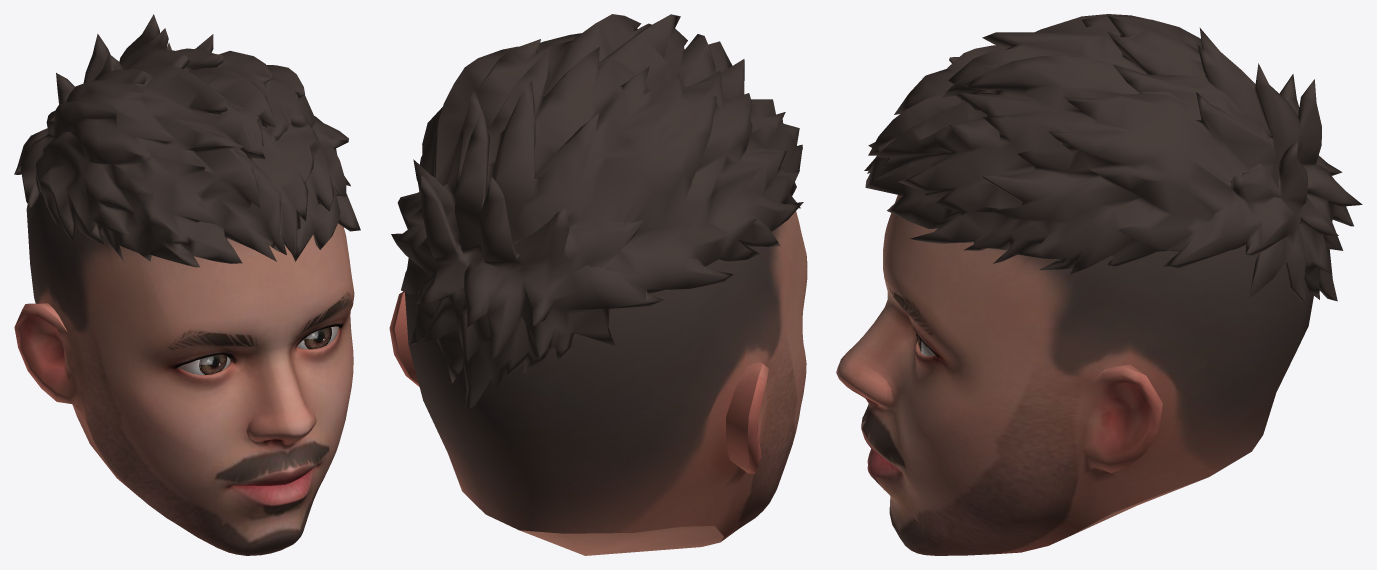
3 renders of one model, left to right at view 1: azimuth 30°, elevation 25°; view 2: azimuth 150°, elevation 25°; view 3: azimuth 270°, elevation 25°, orthographic. The views are drawn at different scales.
Visible parts, largest first — view 1: Wolf3D_Head, Wolf3D_Hair, EyeRight, EyeLeft; view 2: Wolf3D_Hair, Wolf3D_Head; view 3: Wolf3D_Head, Wolf3D_Hair.
Part boxes in pixels (x1,y1,x2,y2): Wolf3D_Head: (14, 192, 354, 555); Wolf3D_Hair: (14, 14, 360, 267); EyeRight: (178, 354, 230, 375); EyeLeft: (297, 326, 338, 349); Wolf3D_Hair: (391, 14, 803, 408); Wolf3D_Head: (389, 211, 807, 555); Wolf3D_Head: (836, 195, 1313, 555); Wolf3D_Hair: (864, 14, 1362, 302).
Size of the model in its own units: 0.1809 by 0.2533 by 0.2346.
4 materials, 4 textured.
